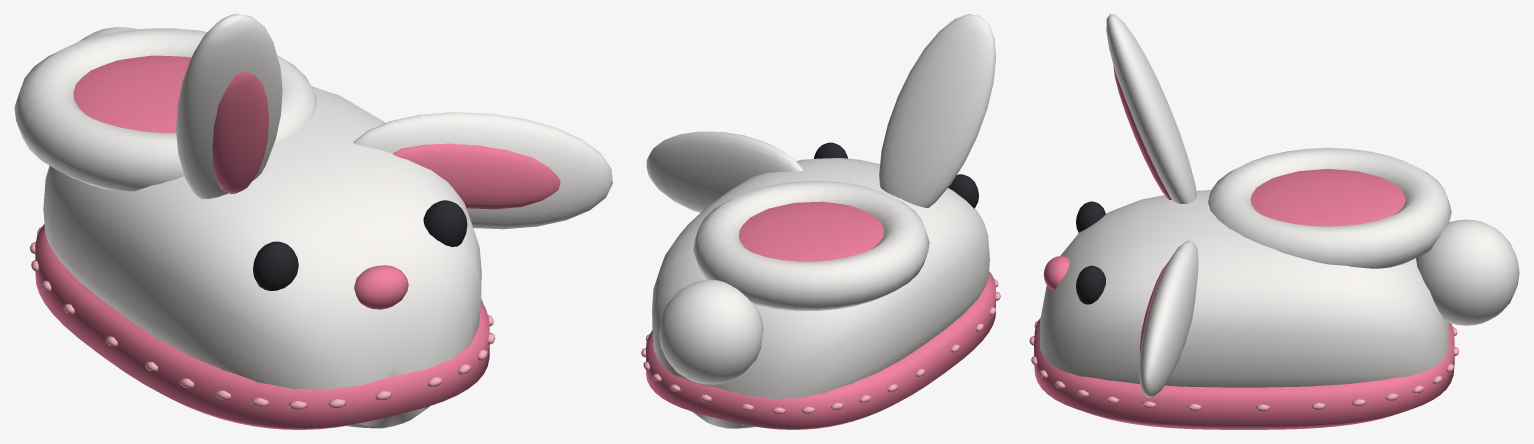
The model's file is bunny_slippers.glb.
3 views of the same model, side by side, from view 1: azimuth 30°, elevation 25°; view 2: azimuth 150°, elevation 25°; view 3: azimuth 270°, elevation 25° (orthographic). The views are drawn at different scales.
Parts seen in each view (by area): view 1: BunnySlipper; view 2: BunnySlipper; view 3: BunnySlipper.
Part boxes in pixels (x1=…): BunnySlipper: x1=14, y1=14, x2=612, y2=429; BunnySlipper: x1=641, y1=14, x2=1000, y2=429; BunnySlipper: x1=1029, y1=14, x2=1519, y2=429.
Size of the model in its own units: 0.3117 by 0.2617 by 0.3687.
